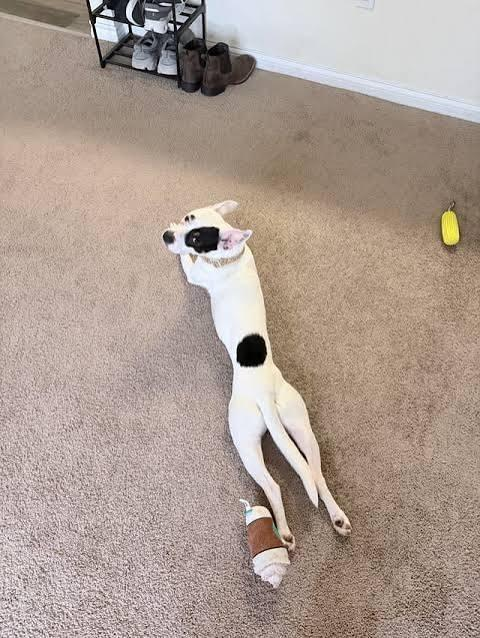adult_dog: (159, 199, 355, 551)
